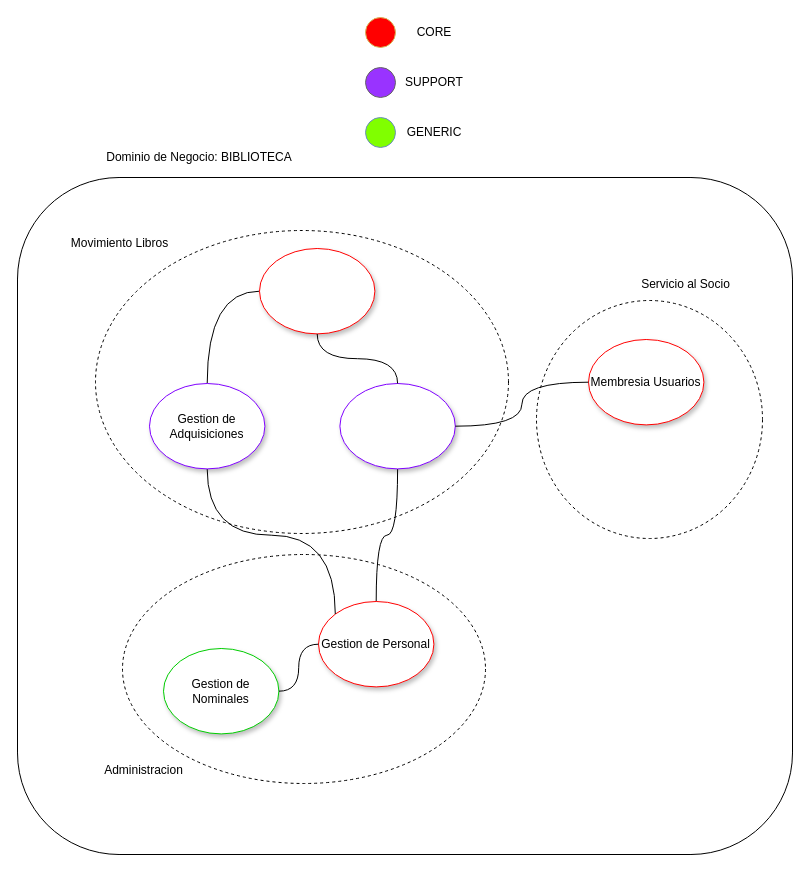
Some shapes in this 810 by 872 pixel diagram are drawn without their labels. Each missing label, with the centre of its shape:
"Gestion de Libros" belongs at [317,292].
"Gestion de Prestamos" belongs at [398,427].
